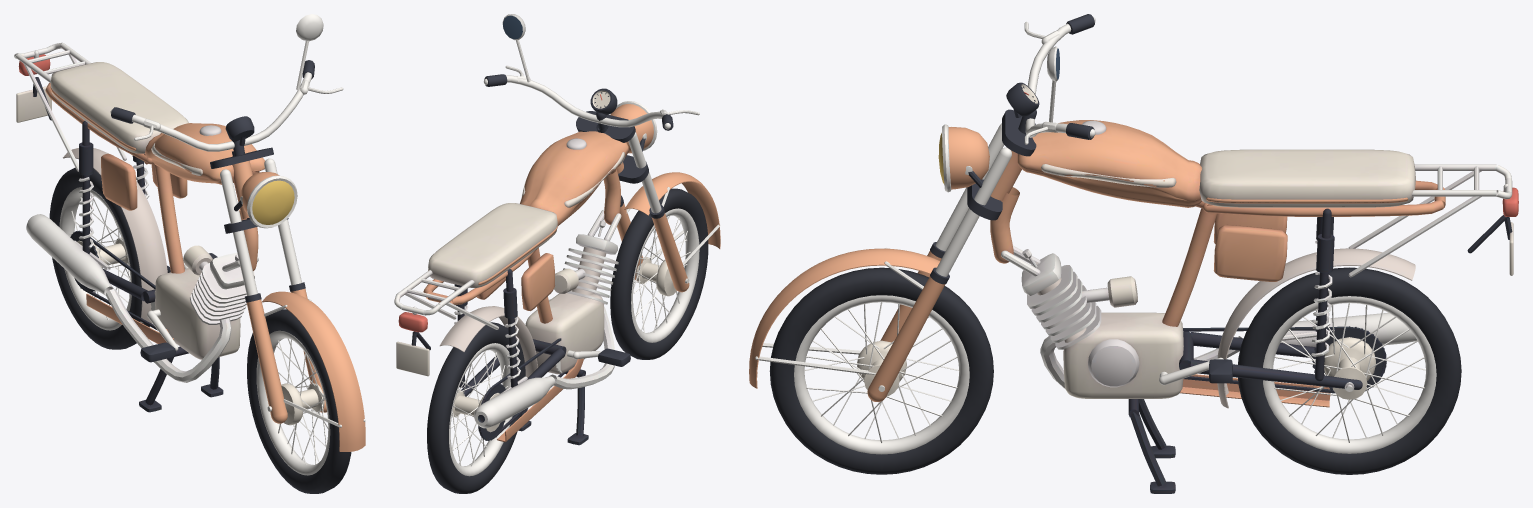
The model's file is moped.glb.
3 renders of one model, left to right at view 1: azimuth 30°, elevation 25°; view 2: azimuth 150°, elevation 25°; view 3: azimuth 270°, elevation 25°, orthographic. The views are drawn at different scales.
Visible parts, largest first — view 1: moped_body, moped_steering, moped_wheel_front, moped_wheel_rear, moped_crank; view 2: moped_body, moped_steering, moped_wheel_front, moped_wheel_rear, moped_crank; view 3: moped_body, moped_wheel_rear, moped_wheel_front, moped_steering, moped_crank.
Part boxes in pixels (bbox=[...]): moped_body: bbox=[14, 42, 264, 412]; moped_steering: bbox=[110, 14, 365, 451]; moped_wheel_front: bbox=[247, 309, 351, 493]; moped_wheel_rear: bbox=[49, 167, 149, 349]; moped_crank: bbox=[140, 253, 217, 362]; moped_body: bbox=[394, 131, 628, 445]; moped_steering: bbox=[483, 14, 720, 292]; moped_wheel_front: bbox=[610, 188, 708, 359]; moped_wheel_rear: bbox=[427, 322, 525, 493]; moped_crank: bbox=[556, 342, 630, 373]; moped_body: bbox=[990, 120, 1518, 493]; moped_wheel_rear: bbox=[1238, 267, 1461, 474]; moped_wheel_front: bbox=[769, 267, 993, 474]; moped_steering: bbox=[749, 14, 1095, 402]; moped_crank: bbox=[1159, 357, 1232, 385].
Size of the model in its own units: 0.71 by 1.29 by 1.91.
19 materials, 1 textured.
